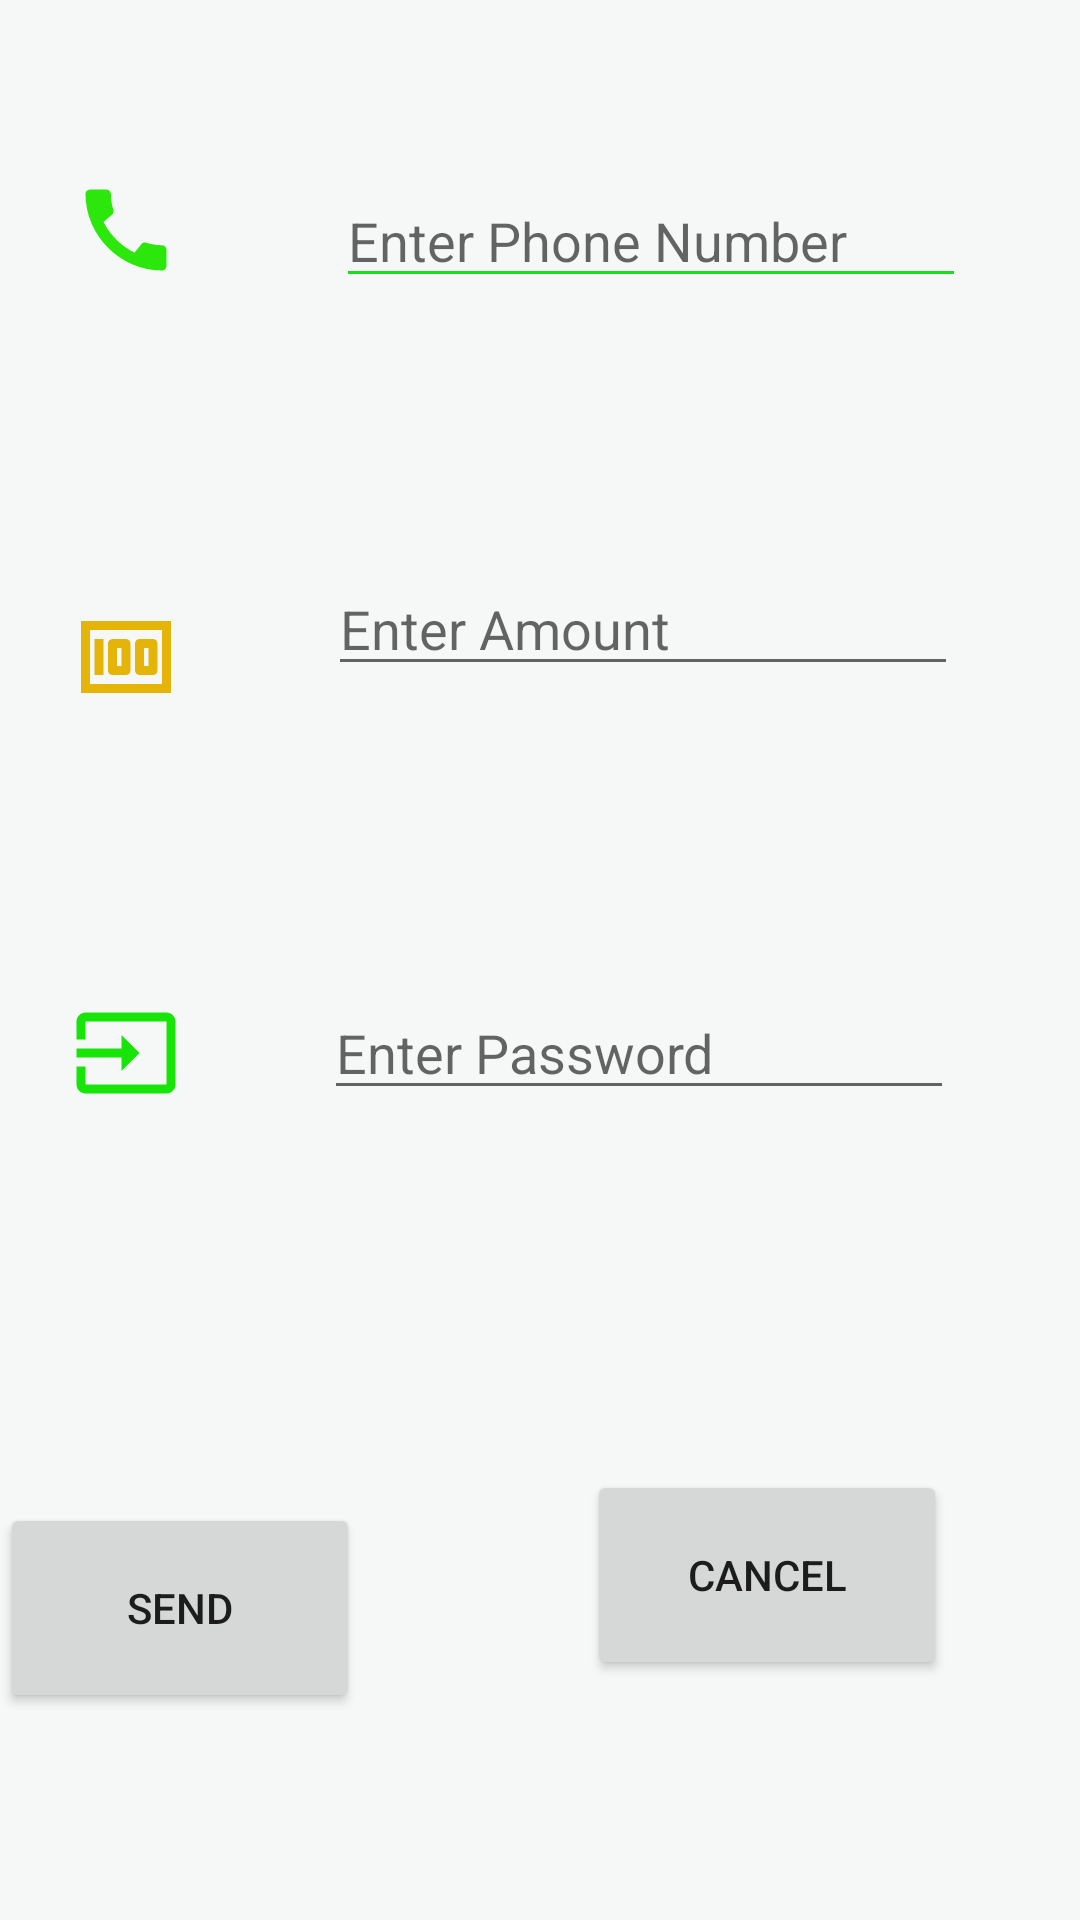

Point at icon controls on the screen. Image size 1080 x 1920, points as (x=x, y=y).
call: (x=126, y=230)
input: (x=126, y=1053)
money: (x=126, y=657)
